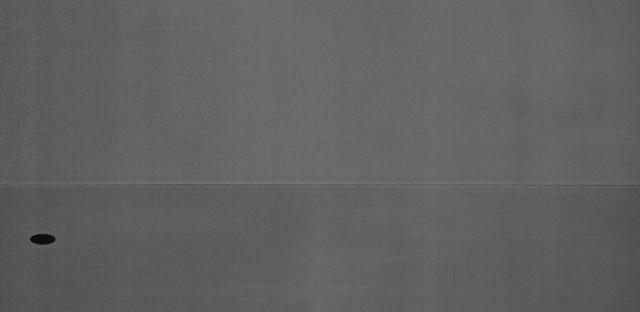punching_hole: (28, 230, 60, 249)
welding_line: (0, 171, 639, 195)
